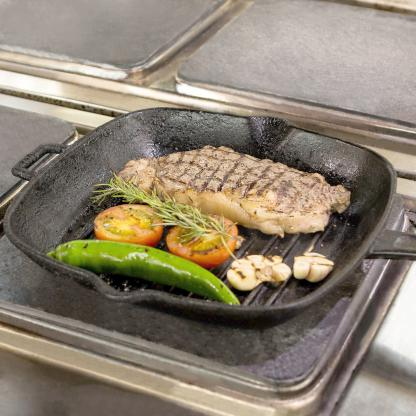Carne: (121, 139, 344, 234)
